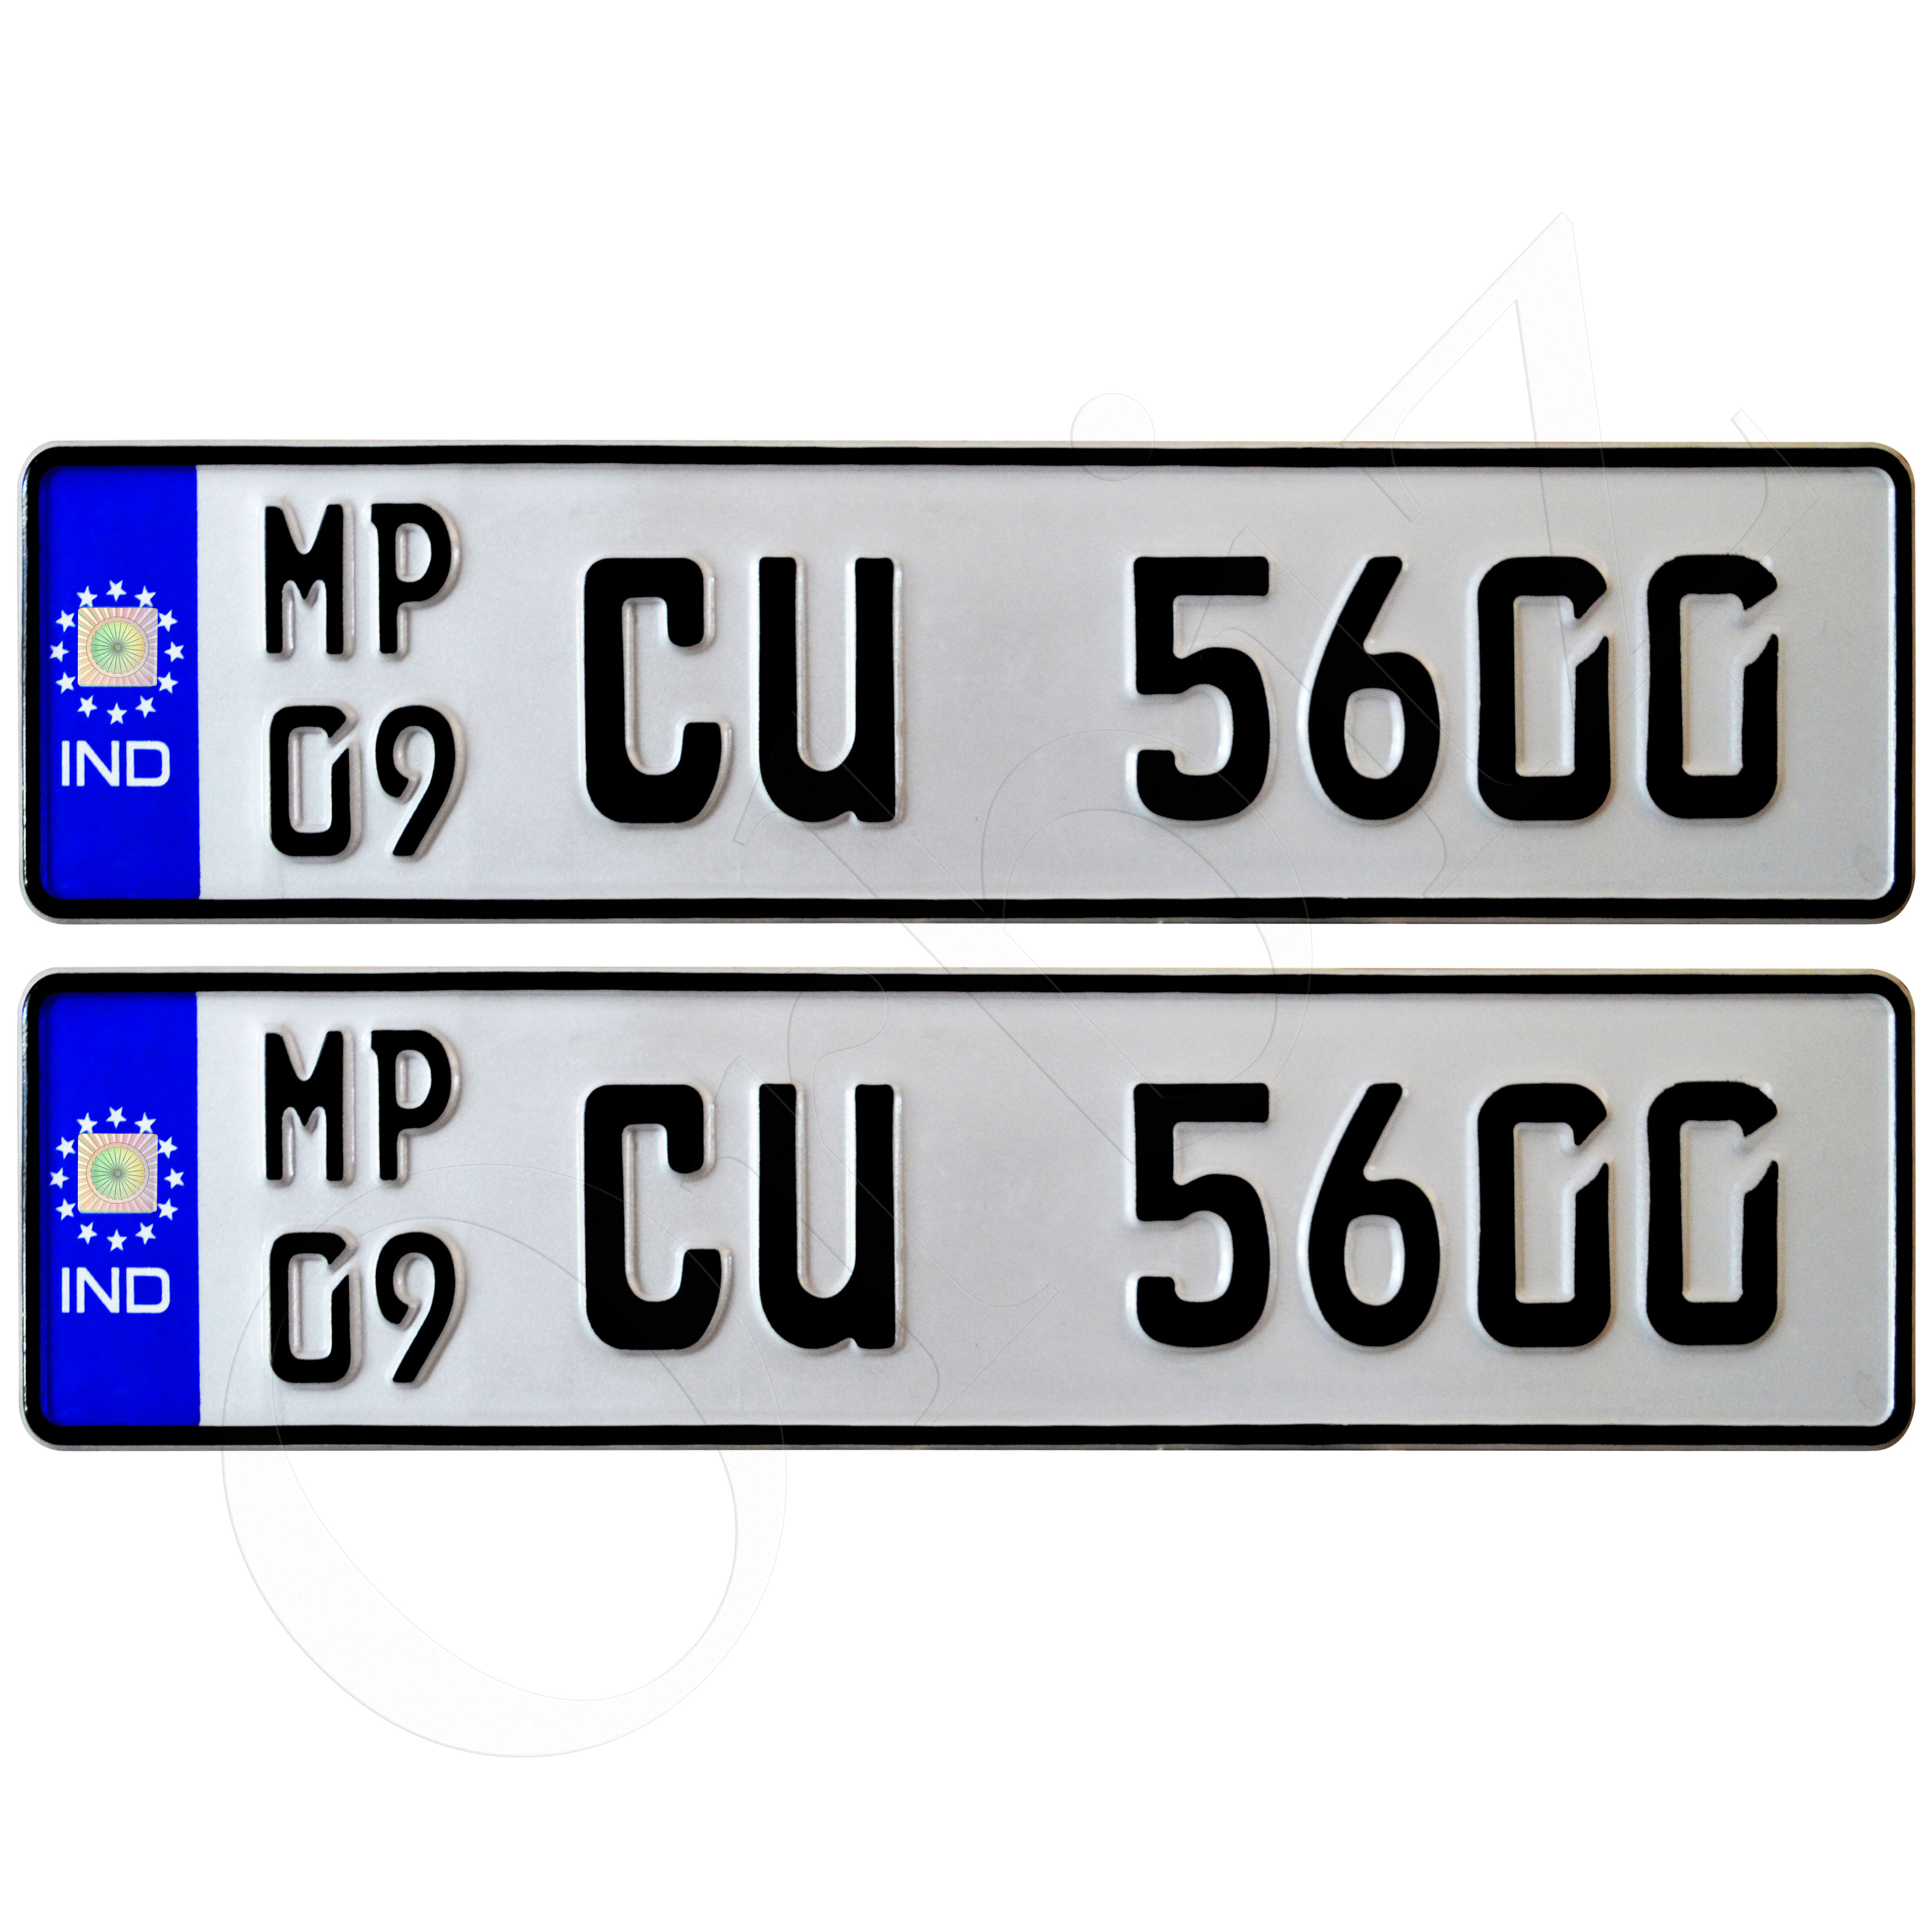inlp: (4, 425, 1932, 960), (10, 951, 1932, 1482)
